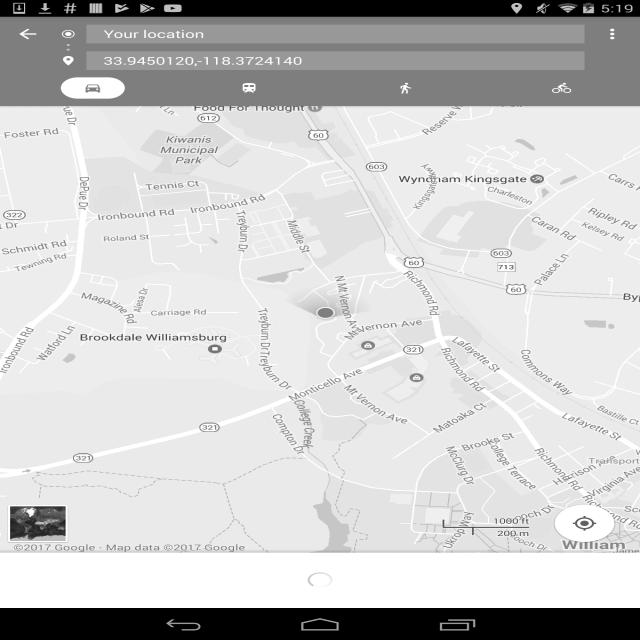Button: (10, 506, 66, 541)
EditText: (86, 17, 584, 47), (86, 47, 584, 77)
ImageView: (550, 502, 619, 545), (10, 506, 66, 541), (587, 25, 638, 43), (12, 25, 42, 43), (54, 38, 81, 57), (56, 51, 81, 70), (56, 25, 81, 43), (396, 82, 415, 94), (552, 82, 571, 94), (84, 82, 102, 94), (240, 82, 258, 94)
ProgressBar: (304, 570, 336, 590)
TextView: (104, 53, 302, 68), (0, 541, 245, 552), (104, 27, 267, 41)
